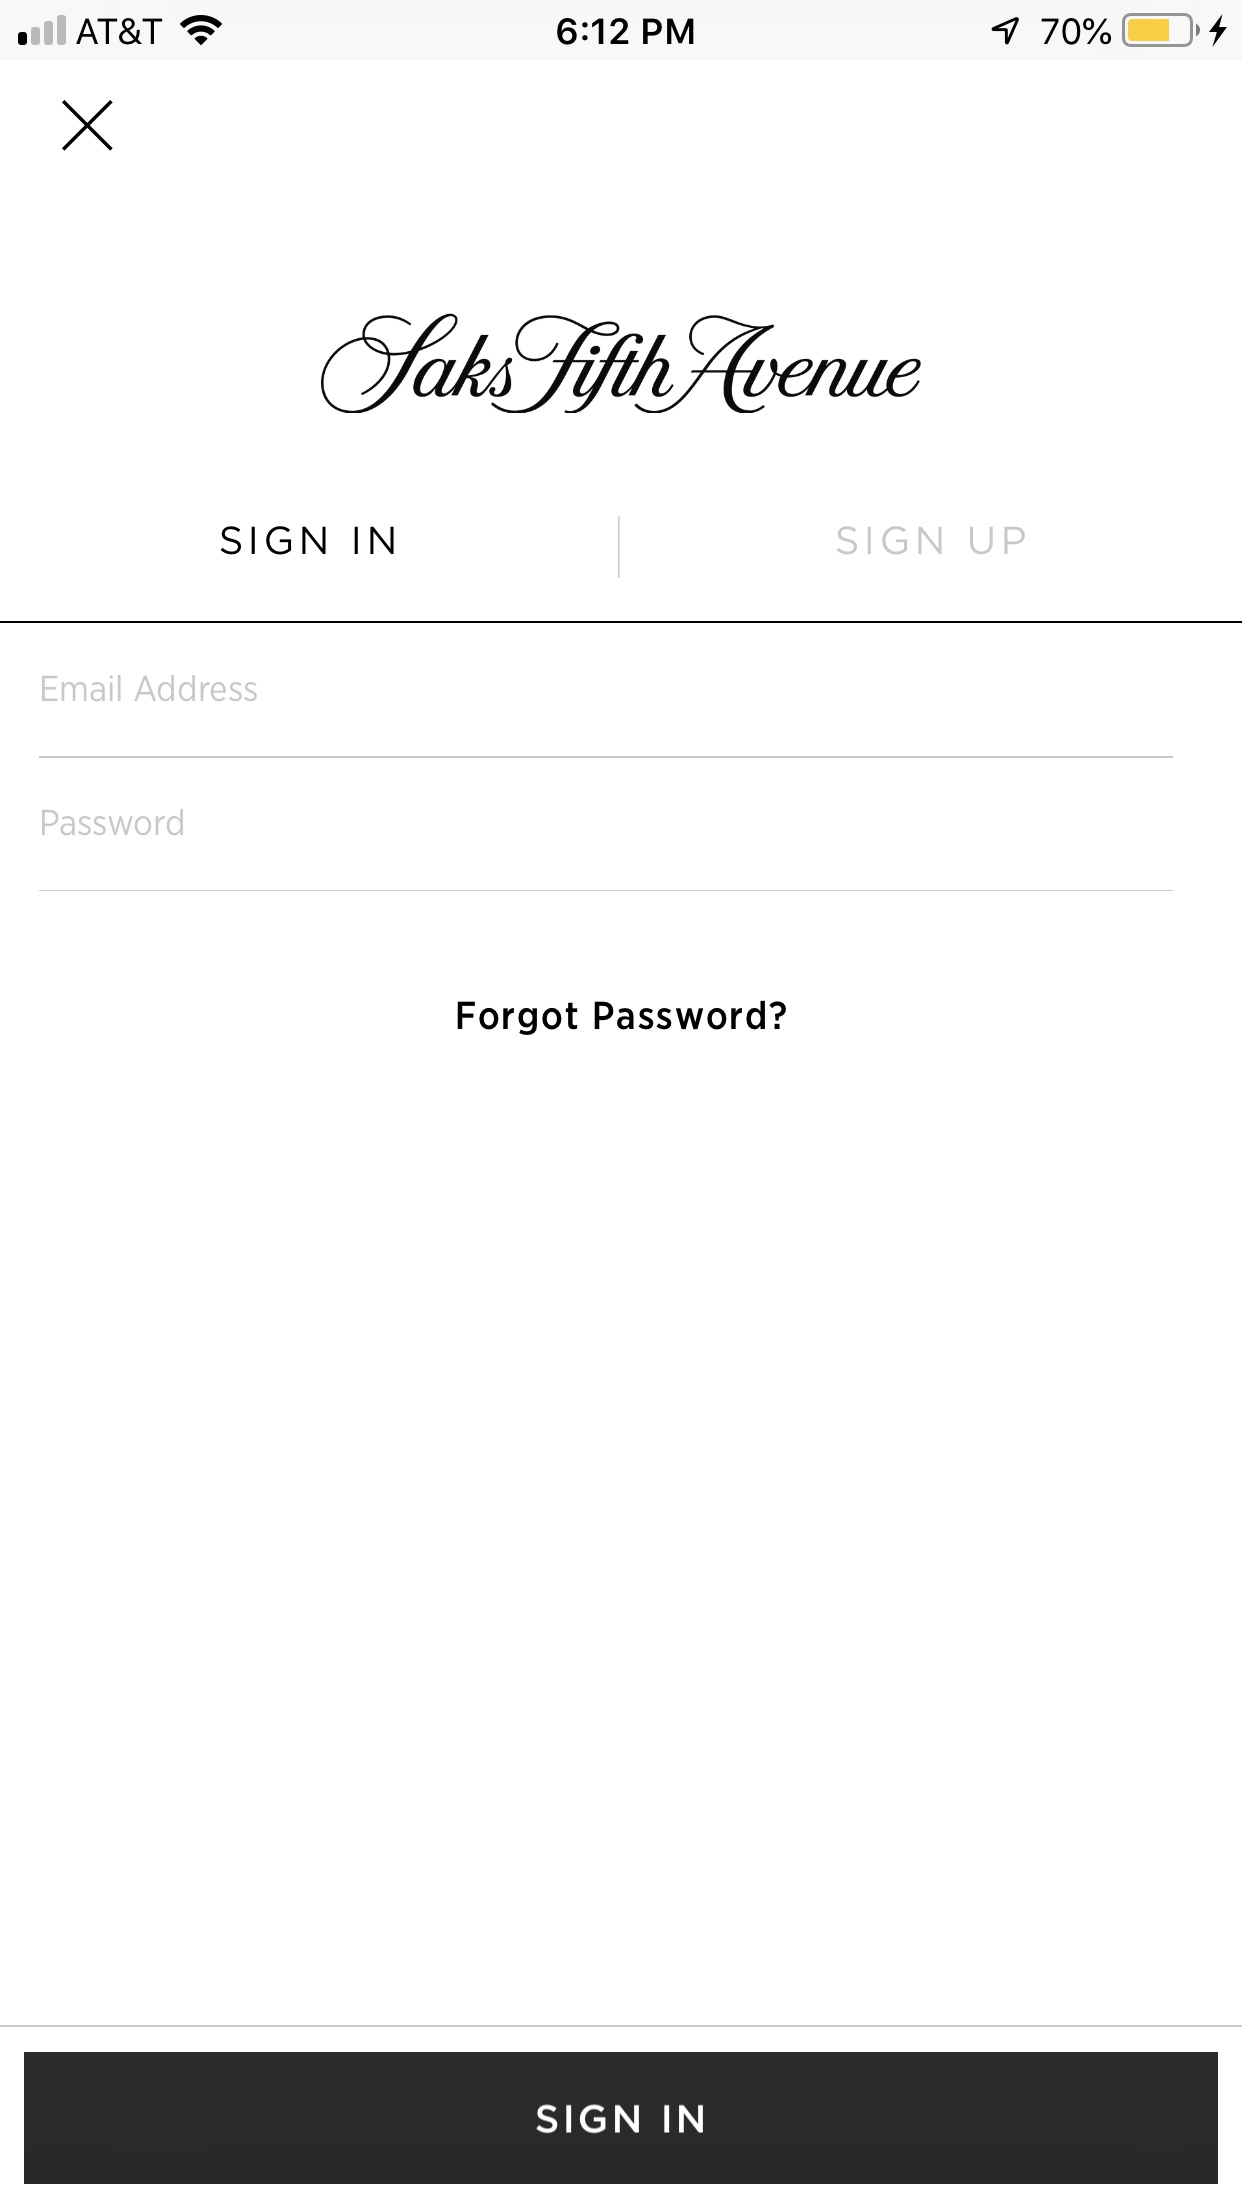EditText: (39, 673, 1174, 760), (39, 808, 1174, 893)
Icon: (62, 100, 115, 153)
Text: (320, 314, 922, 416), (456, 999, 789, 1036), (41, 673, 259, 704), (836, 525, 1027, 557), (220, 525, 396, 557), (42, 810, 185, 837)
TextButton: (24, 2052, 1218, 2185)
UpperTaskBar: (2, 2, 1242, 61)
